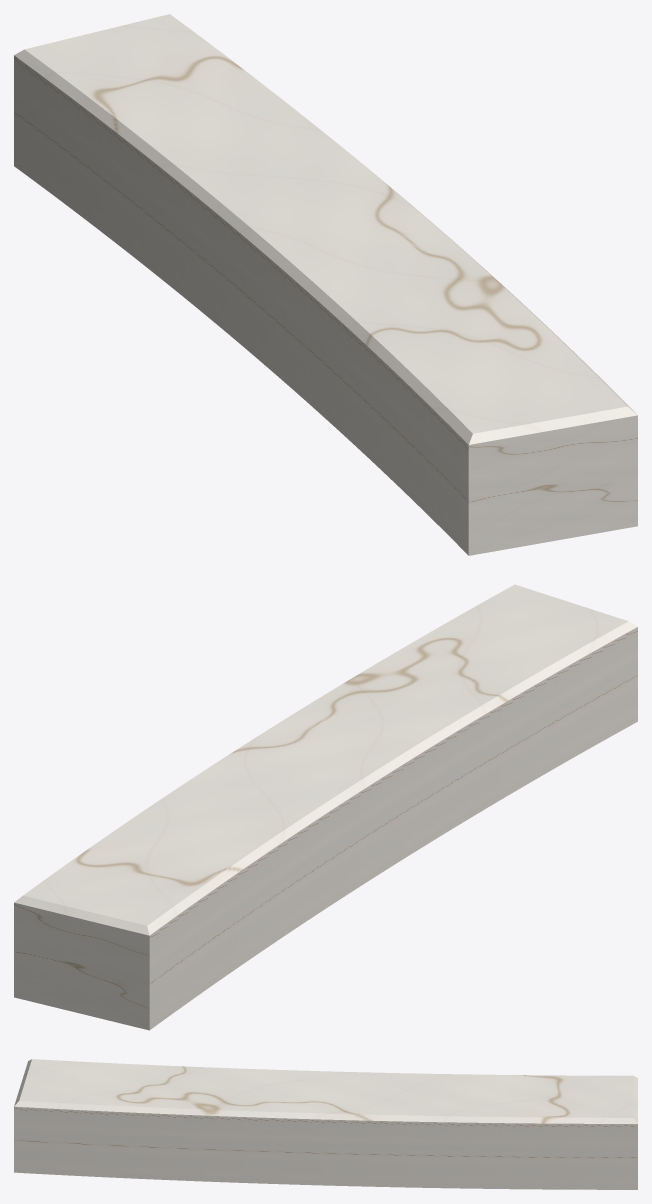
Rendered from f01-g-cream-marble-pool-trim-1m.glb.
The picture shows the model from 3 angles, top to bottom: view 1: azimuth 30°, elevation 25°; view 2: azimuth 150°, elevation 25°; view 3: azimuth 270°, elevation 25°; orthographic projection. The views are drawn at different scales.
Parts seen in each view (by area): view 1: S7-FLOOR-F01-G-1m - genuine curved poolside marble edging; view 2: S7-FLOOR-F01-G-1m - genuine curved poolside marble edging; view 3: S7-FLOOR-F01-G-1m - genuine curved poolside marble edging.
Boxes of the visible parts, box(x1,y1,x2,y2) form: S7-FLOOR-F01-G-1m - genuine curved poolside marble edging: box(14, 14, 637, 555); S7-FLOOR-F01-G-1m - genuine curved poolside marble edging: box(14, 584, 637, 1030); S7-FLOOR-F01-G-1m - genuine curved poolside marble edging: box(14, 1059, 637, 1189).
Bounding box in the file's own units: 0.2598 × 0.135 × 1.09.
1 material, 1 textured.
